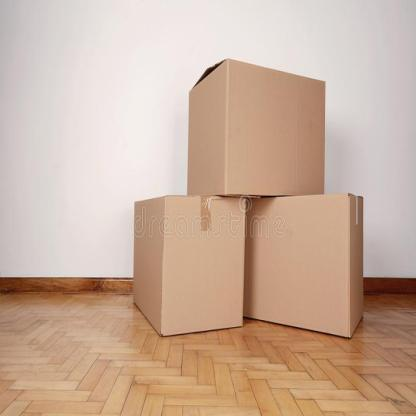package: (186, 57, 325, 197), (238, 192, 365, 337), (133, 194, 243, 336)
